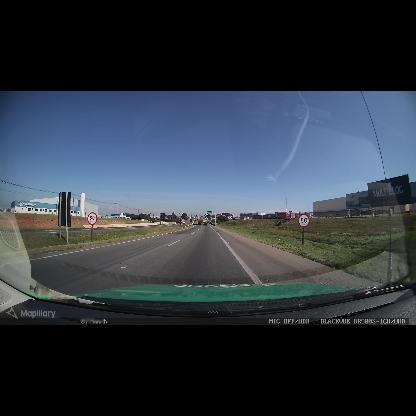R-19: (298, 214, 310, 227), (87, 212, 97, 225)
